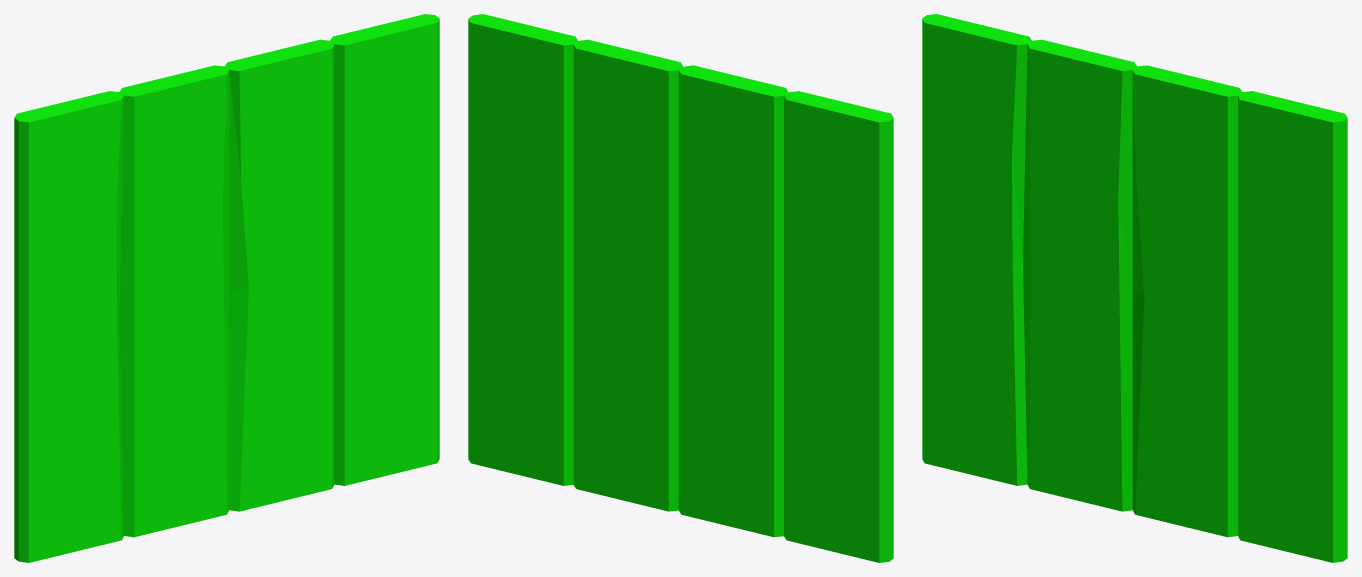
File: SM_Wall_Deco_Wood_1x1m.fbx
The picture shows the model from 3 angles, left to right: view 1: azimuth 30°, elevation 25°; view 2: azimuth 150°, elevation 25°; view 3: azimuth 330°, elevation 25°; orthographic projection.
Visible parts, largest first — view 1: wall-deco-wood-1x1m; view 2: wall-deco-wood-1x1m; view 3: wall-deco-wood-1x1m.
Part boxes in pixels (x1,y1,x2,y2): wall-deco-wood-1x1m: (14,14,439,562); wall-deco-wood-1x1m: (468,14,893,562); wall-deco-wood-1x1m: (922,14,1347,562).
Size of the model in its own units: 1 by 1 by 0.05.
